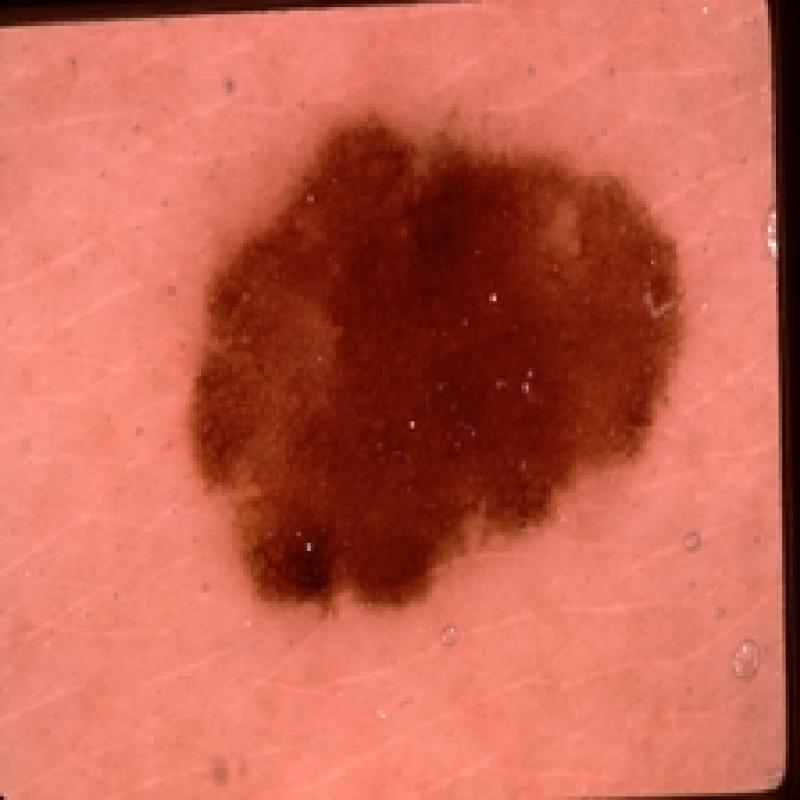malignant: (185, 106, 698, 623)
